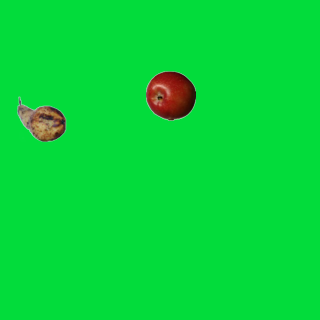Apple Braeburn: (145, 70, 195, 120)
Pear Abate: (16, 94, 66, 144)
